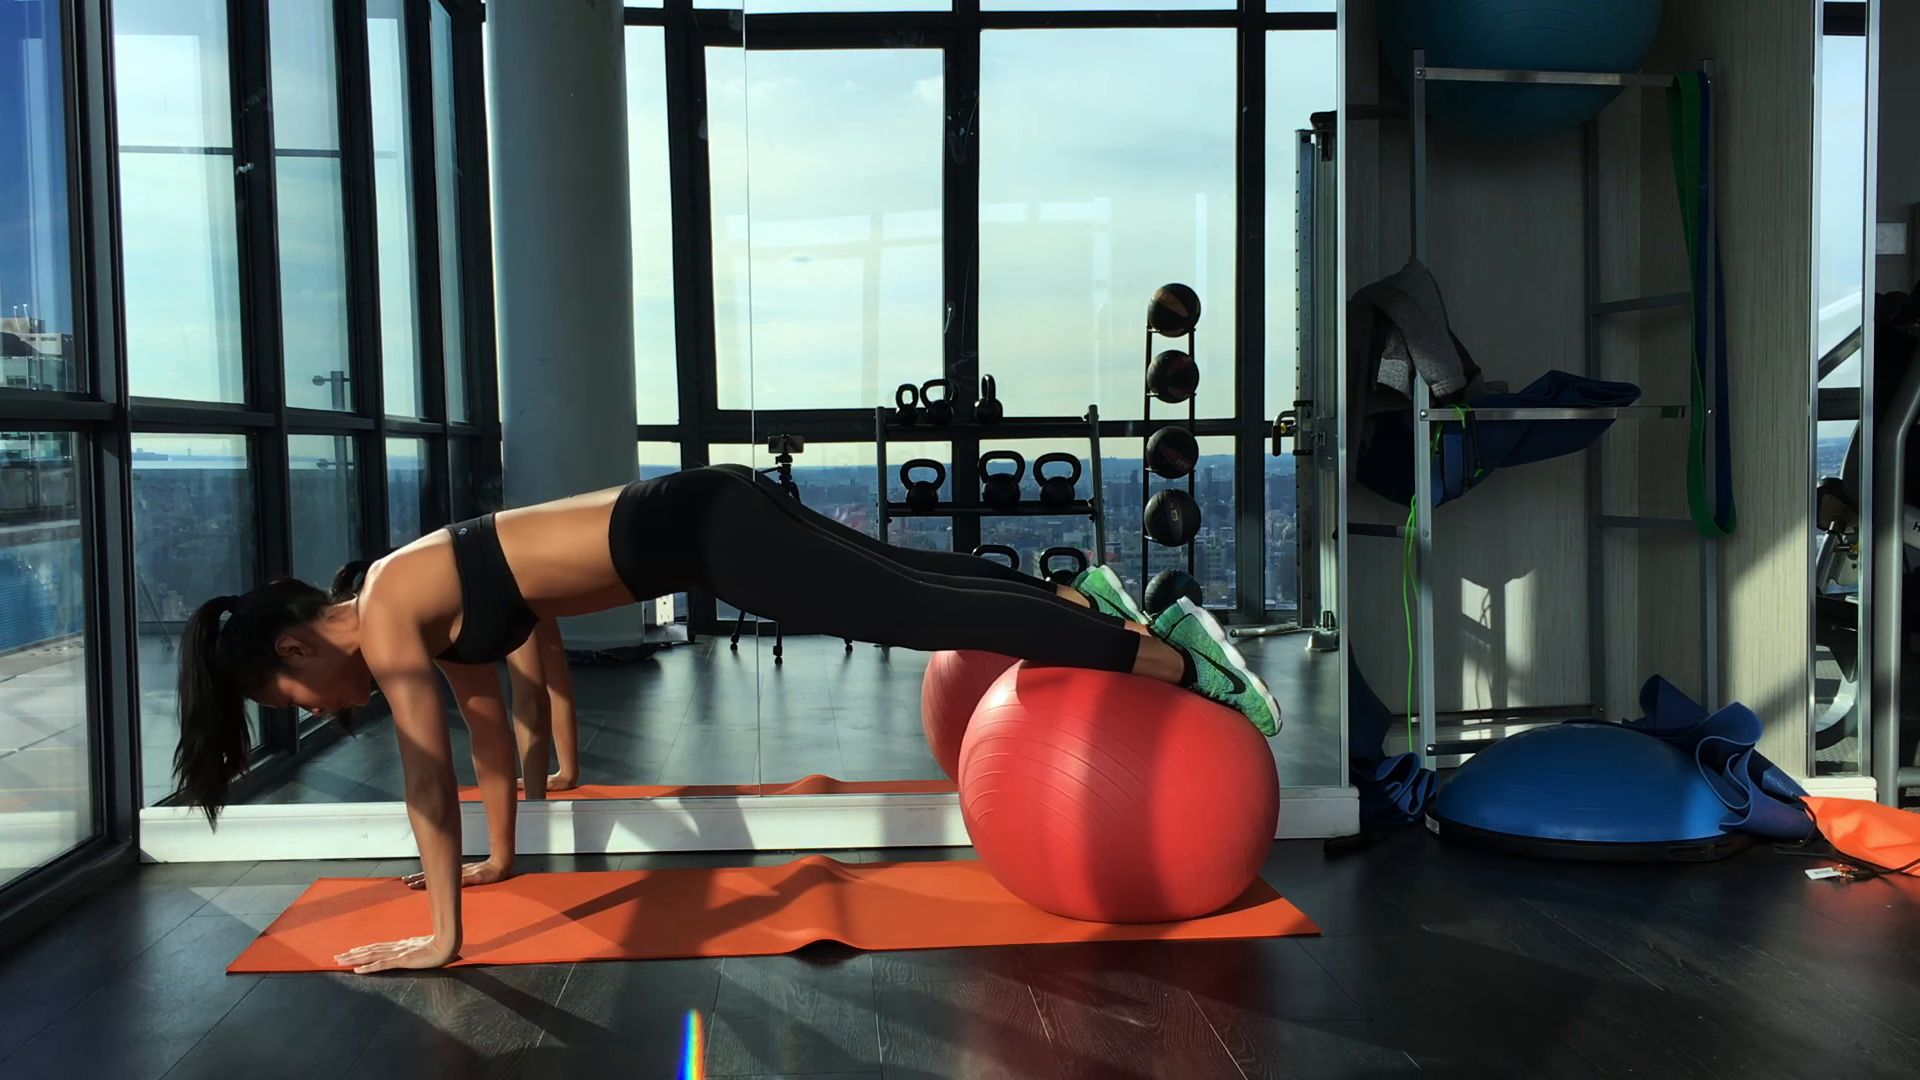yogaball: (945, 649, 1305, 930)
